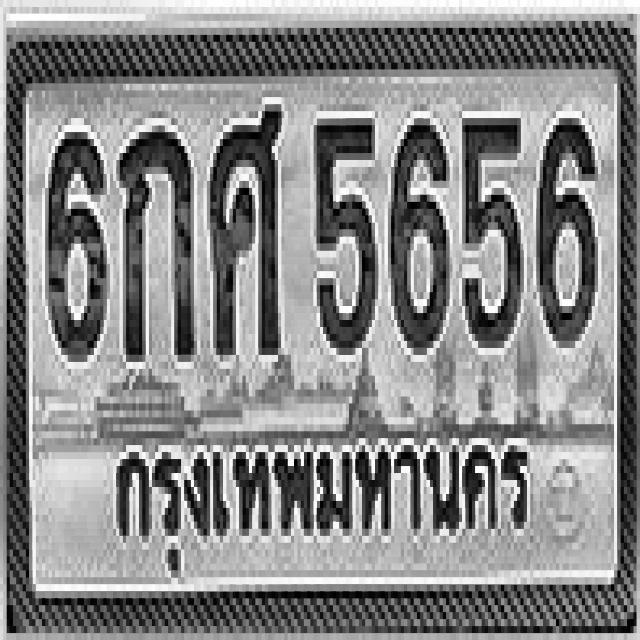license-plate: (10, 35, 634, 622)
